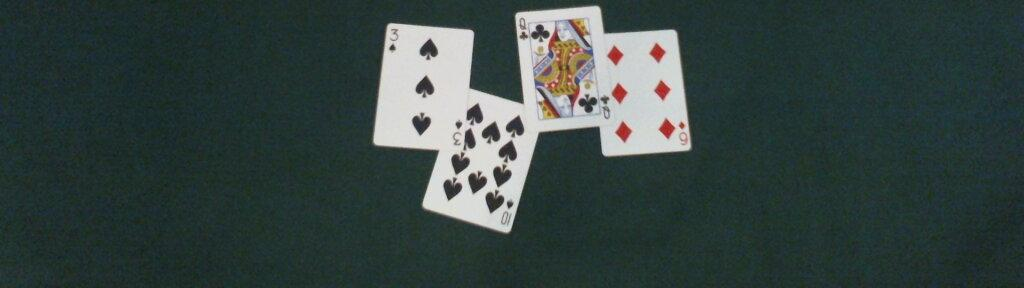queen: (514, 5, 613, 132)
six: (600, 28, 693, 158)
ten: (421, 88, 541, 233)
three: (372, 21, 475, 151)
